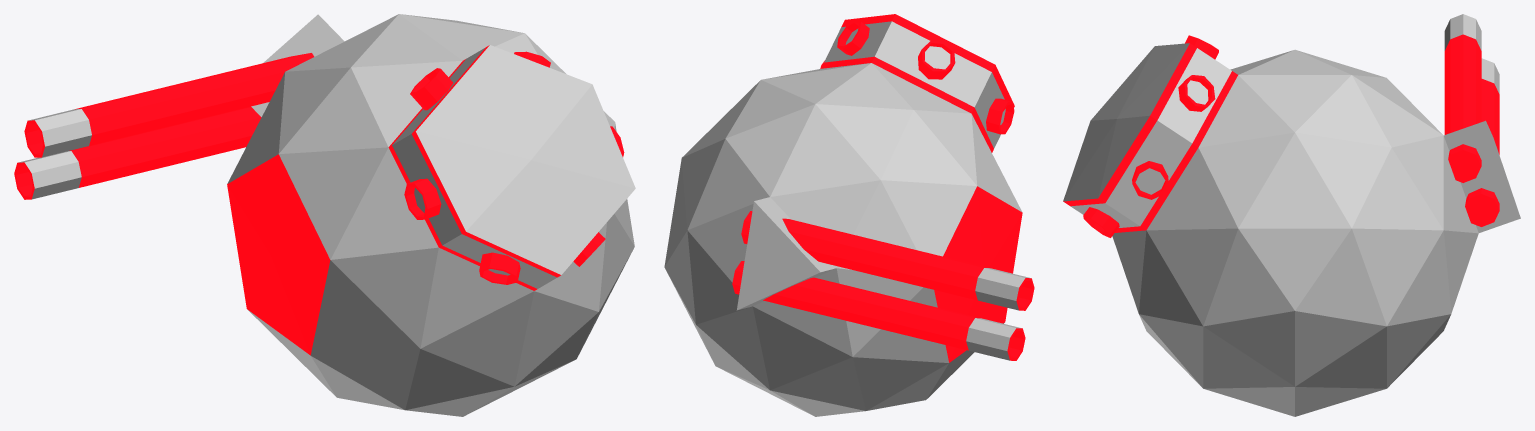
File: Gegner10.fbx
The picture shows the model from 3 angles, left to right: view 1: azimuth 30°, elevation 25°; view 2: azimuth 150°, elevation 25°; view 3: azimuth 270°, elevation 25°; orthographic projection. The views are drawn at different scales.
Visible parts, largest first — view 1: Icosphere; view 2: Icosphere; view 3: Icosphere.
Boxes of the visible parts, left/top/right/bottom form: Icosphere: left=14, top=14, right=635, bottom=416; Icosphere: left=664, top=14, right=1034, bottom=416; Icosphere: left=1063, top=14, right=1520, bottom=416.
Size of the model in its own units: 269 by 209 by 249.
